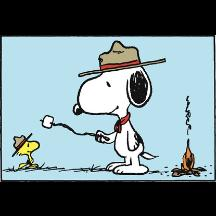snoopy: (70, 39, 168, 176)
